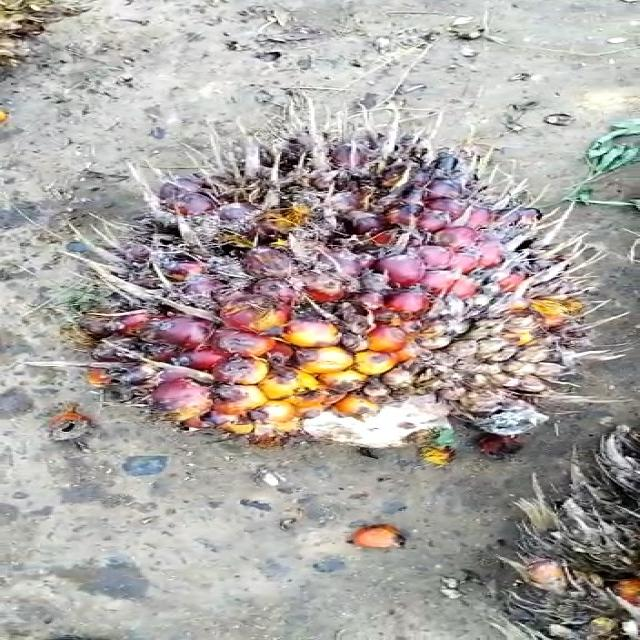palm oil: (85, 123, 587, 479)
